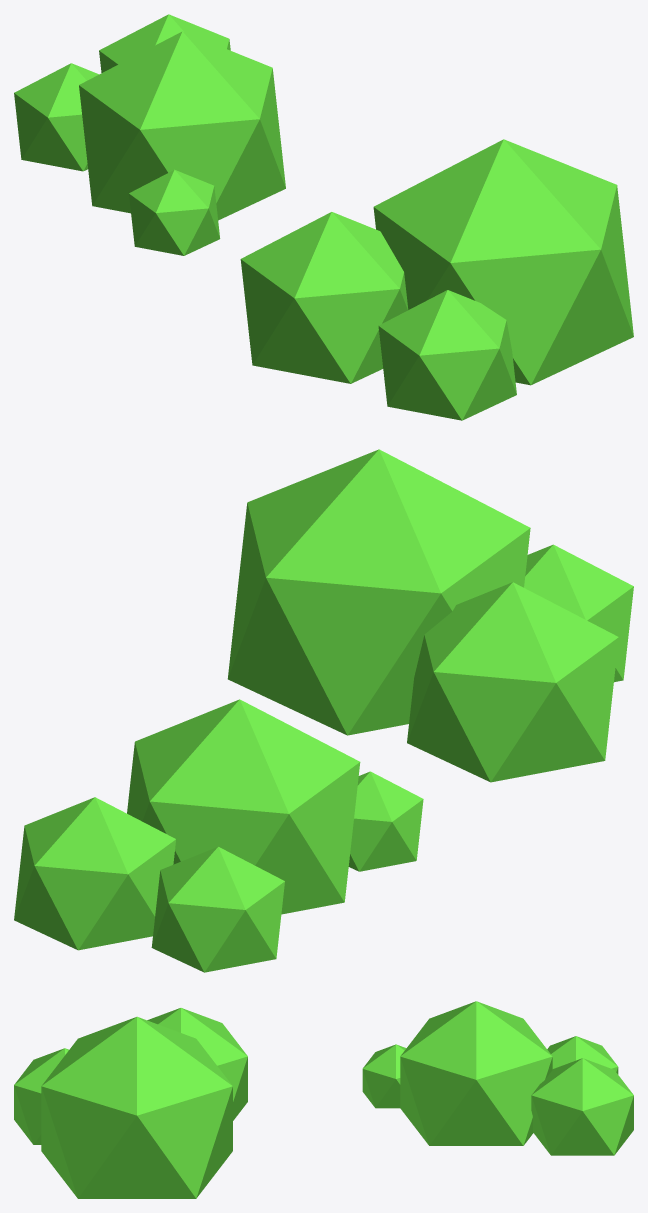
Rendered from Bushes.fbx.
The picture shows the model from 3 angles, top to bottom: view 1: azimuth 30°, elevation 25°; view 2: azimuth 150°, elevation 25°; view 3: azimuth 270°, elevation 25°; orthographic projection. The views are drawn at different scales.
Visible parts, largest first — view 1: Icosphere.006, Icosphere.002; view 2: Icosphere.006, Icosphere.002; view 3: Icosphere.006, Icosphere.002.
Part boxes in pixels (x1=…): Icosphere.006: x1=240, y1=139, x2=633, y2=420; Icosphere.002: x1=14, y1=14, x2=285, y2=255; Icosphere.006: x1=227, y1=449, x2=633, y2=782; Icosphere.002: x1=14, y1=699, x2=423, y2=972; Icosphere.006: x1=14, y1=1008, x2=247, y2=1198; Icosphere.002: x1=362, y1=1001, x2=633, y2=1155.
Bounding box in the file's own units: 3804 × 2089 × 7898.
